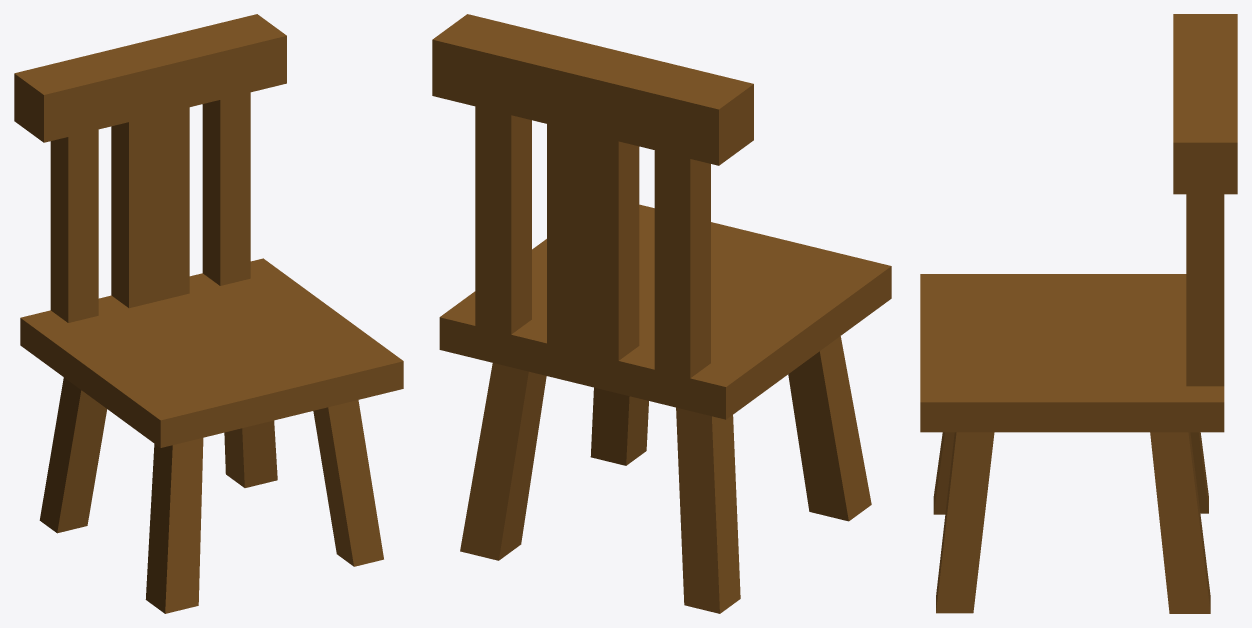
Rendered from Chair1.fbx.
3 renders of one model, left to right at view 1: azimuth 30°, elevation 25°; view 2: azimuth 150°, elevation 25°; view 3: azimuth 270°, elevation 25°, orthographic. The views are drawn at different scales.
Visible parts, largest first — view 1: Cube; view 2: Cube; view 3: Cube.
Part boxes in pixels (bbox=[...]): Cube: bbox=[14, 14, 403, 613]; Cube: bbox=[432, 14, 891, 613]; Cube: bbox=[920, 14, 1237, 613].
Size of the model in its own units: 200 by 346 by 209.
